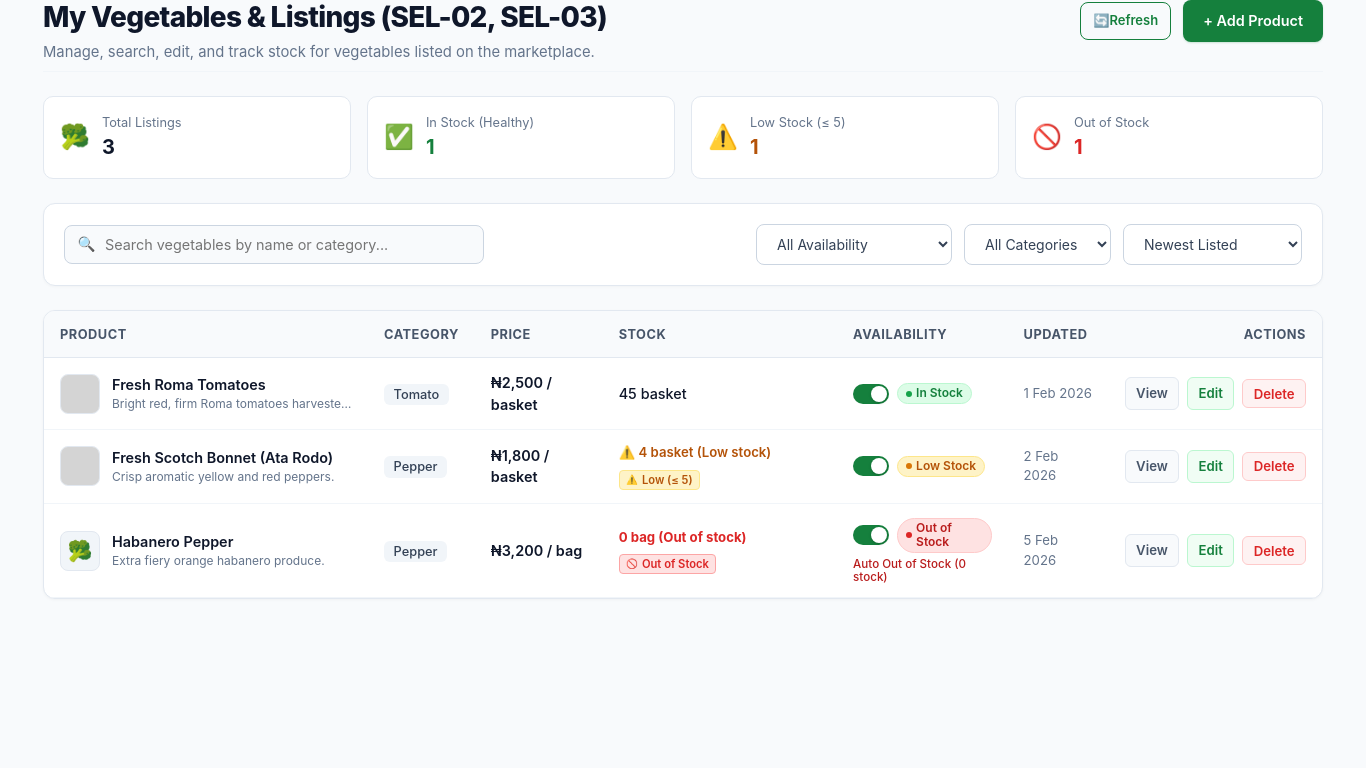
FE-082 / SEL-02, SEL-03: Seller Products List Page › 5. Soft Delete Action & Confirmation Dialog (SEL-04, BR-10) › opens confirm dialog when clicking delete, and dismisses on Cancel without deleting
What coordinates should you click on to do the following:
click the button with test id "product-delete-btn-1"
I would click on:
 (1274, 394)
Its box is top-left (1242, 379), bottom-right (1306, 408).
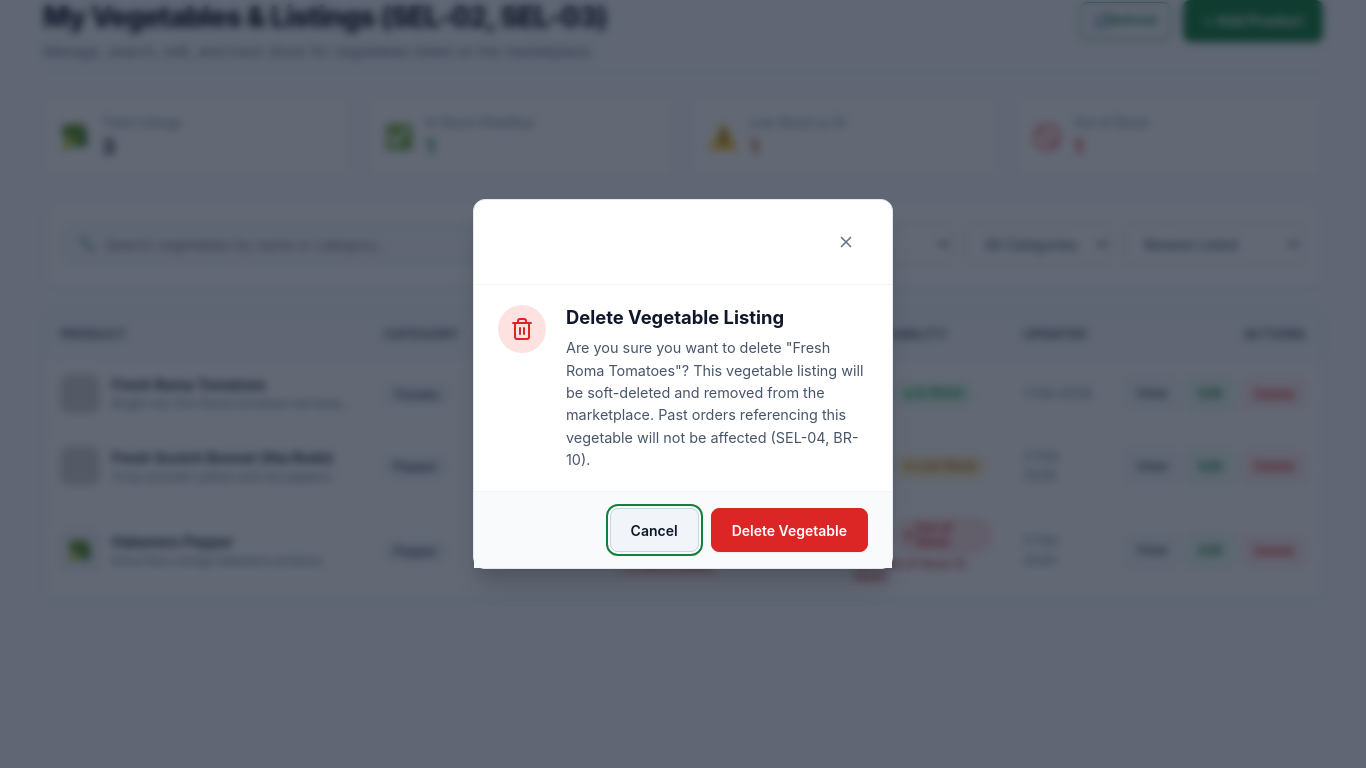
Now the dialog with test id "delete-product-confirm-dialog" is shown, box top-left (473, 199), bottom-right (893, 569)
Now the dialog with test id "delete-product-confirm-dialog" shows "Delete Vegetable Listing", box top-left (566, 306), bottom-right (784, 328)
Now the dialog with test id "delete-product-confirm-dialog" shows "Fresh Roma Tomatoes", box top-left (566, 339), bottom-right (864, 468)
Click Cancel
What coordinates should you click on to do the following:
click the button "Cancel"
I would click on:
 (654, 530)
Its box is top-left (610, 508), bottom-right (699, 552).
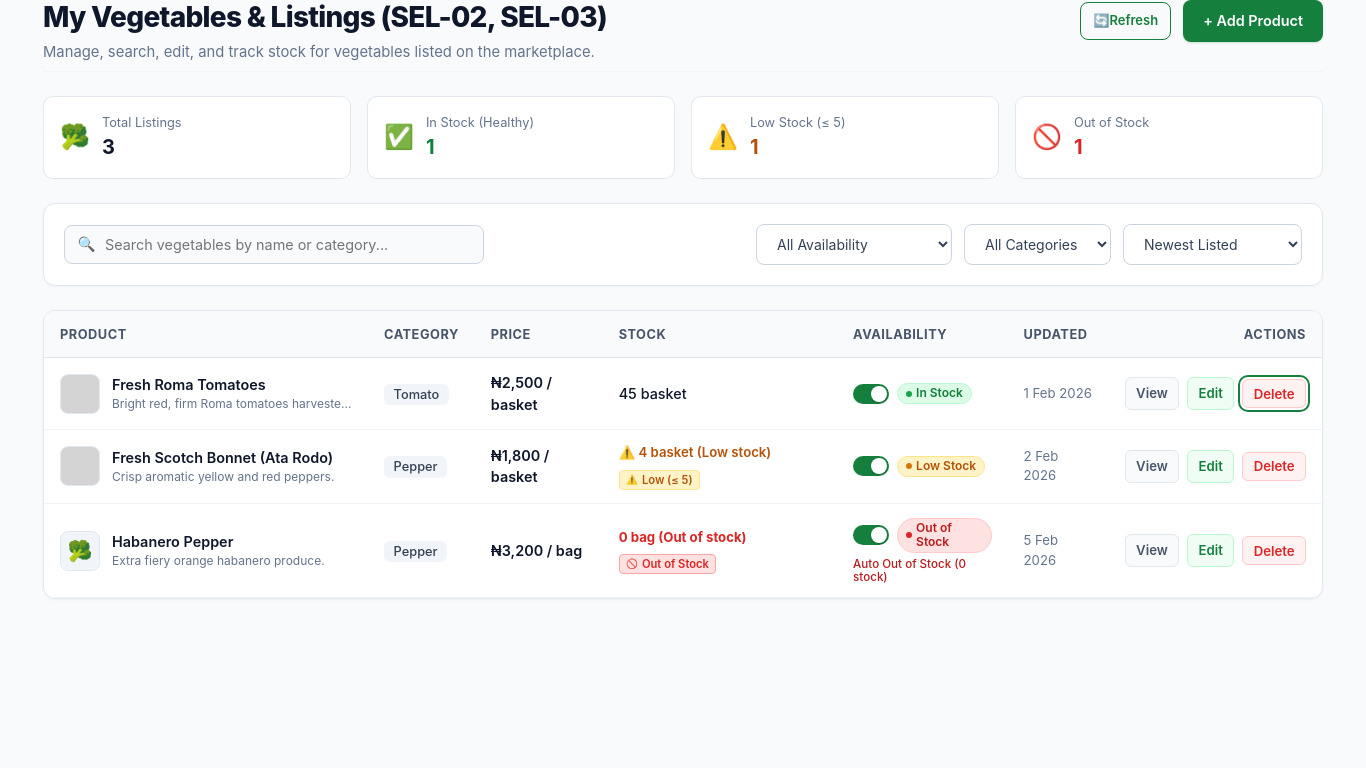
Now the dialog with test id "delete-product-confirm-dialog" is gone
